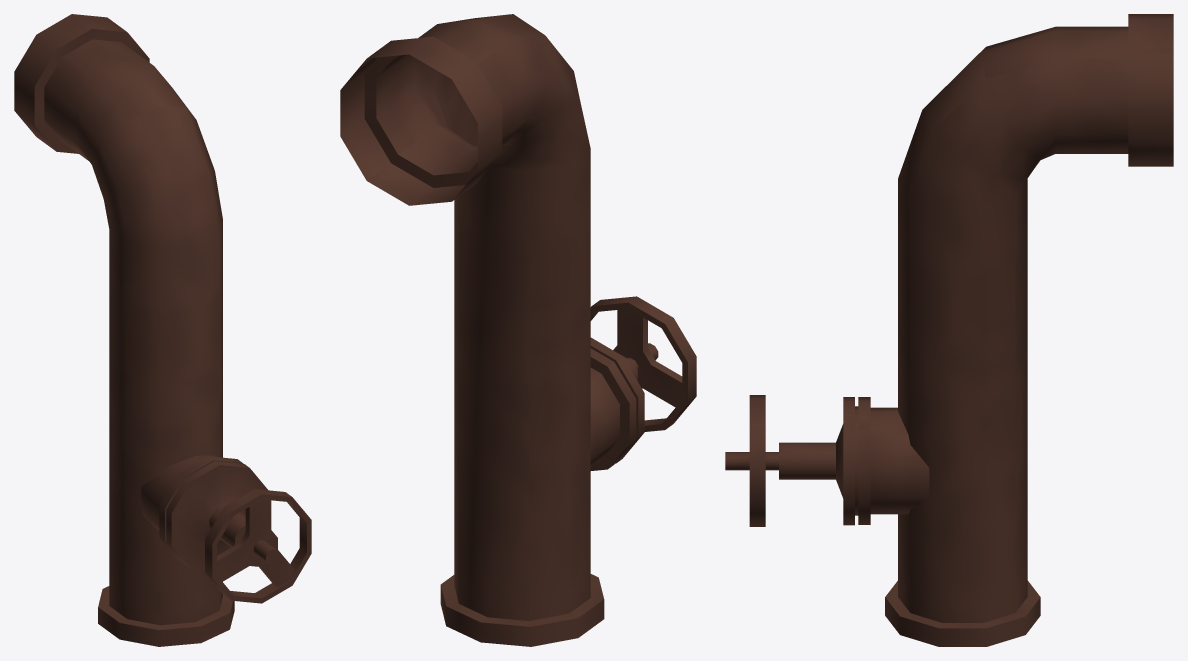
Rendered from Pipes2.fbx.
The picture shows the model from 3 angles, left to right: view 1: azimuth 30°, elevation 25°; view 2: azimuth 150°, elevation 25°; view 3: azimuth 270°, elevation 25°; orthographic projection. The views are drawn at different scales.
Parts seen in each view (by area): view 1: Куб.004; view 2: Куб.004; view 3: Куб.004.
Boxes of the visible parts, bbox=[...] form: Куб.004: bbox=[14, 14, 311, 646]; Куб.004: bbox=[340, 14, 696, 646]; Куб.004: bbox=[725, 14, 1173, 646].
Bounding box in the file's own units: 120 × 533 × 363.
